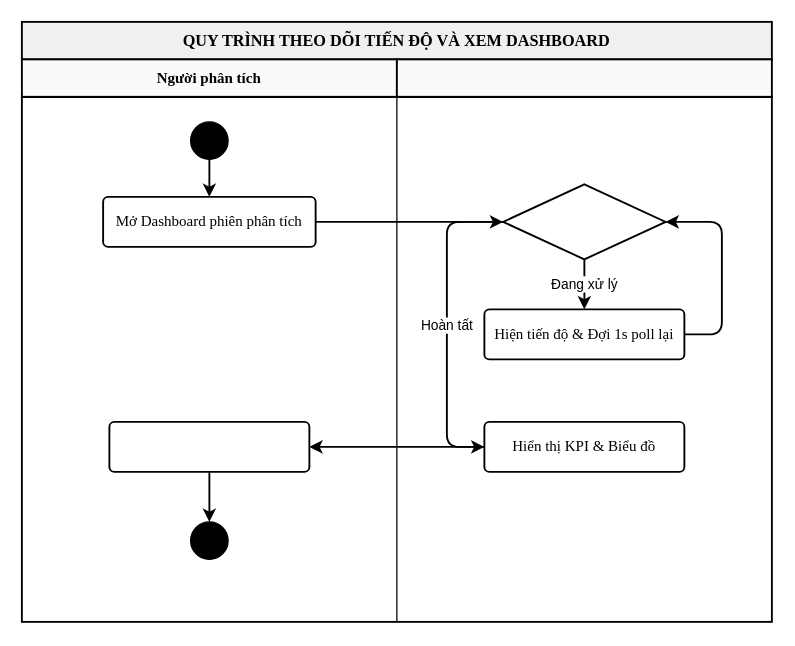
This 795x646 diagram has some shape labels left out. The shapes that lost their labels are listed below. From the top down, each one's centre as x and y in pixels, then its label:
point (583, 77): Hệ thống
point (584, 221): Trạng thái?
point (209, 446): Xem kết quả phân tích
